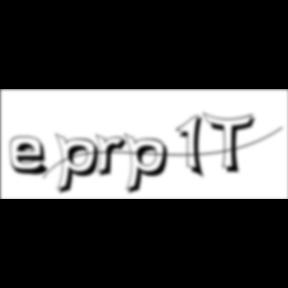1: (176, 114, 210, 182)
T: (203, 112, 261, 176)
e: (10, 135, 56, 178)
p: (56, 132, 106, 198), (125, 132, 175, 198)
r: (96, 134, 134, 180)
